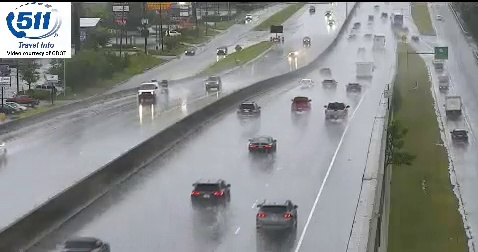car: (256, 200, 297, 233), (192, 180, 230, 208), (248, 137, 276, 154), (325, 103, 348, 119), (237, 103, 259, 118), (291, 97, 310, 111)
